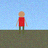person: (16, 11, 27, 34)
